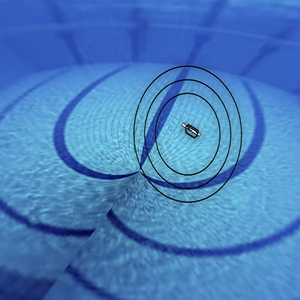circle: (123, 53, 254, 209)
submarine: (175, 118, 205, 157)
